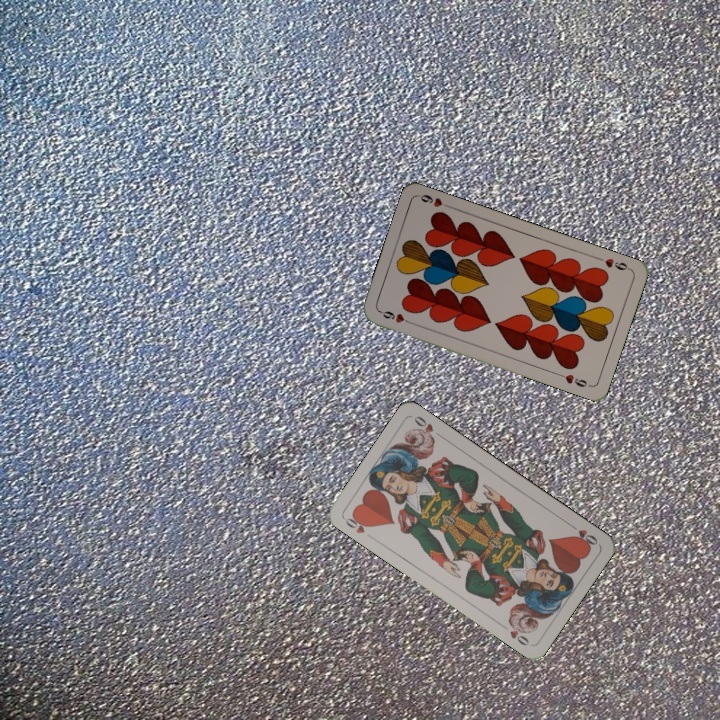H9: (376, 306, 415, 327), (594, 253, 633, 273)
HO: (341, 510, 376, 542), (565, 519, 600, 550)
